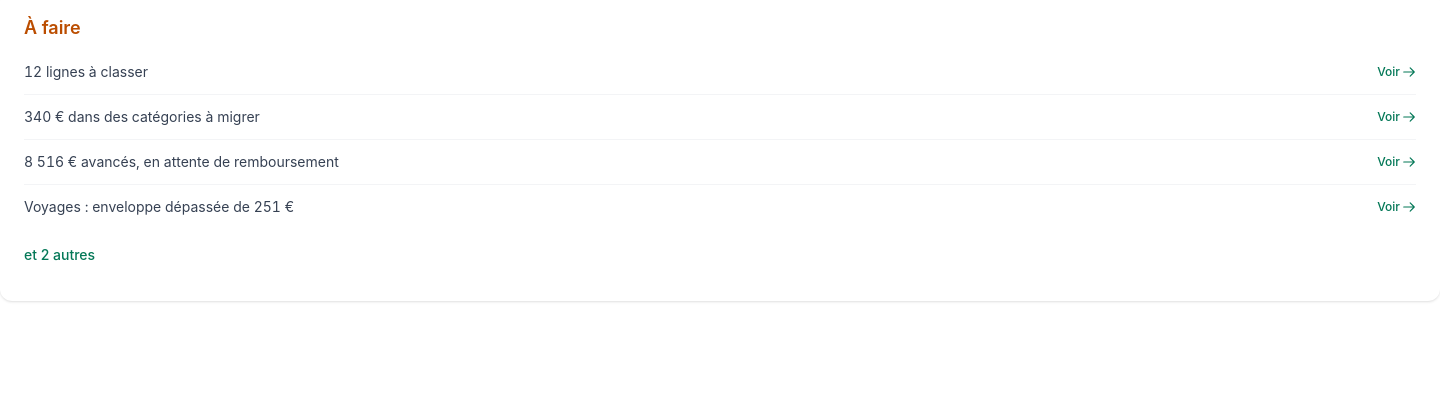
it: TodoCard › shows four lines, then unfolds the rest in place
The width and height of the screenshot is (1440, 409).
Expected: the number of list items is 4, [24,50,1416,95]; [24,95,1416,140]; [24,140,1416,185]; [24,198,1416,215]
Click the button with test id "todo-more" at (60, 255), box [24,233,95,277]
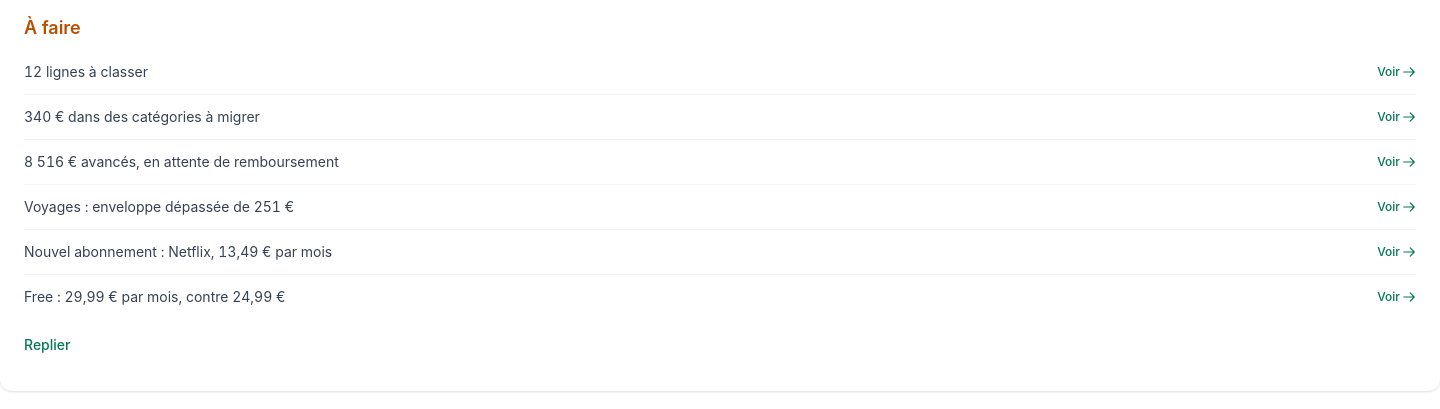
Result: the number of list items is 6 at [24,50,1416,95]; [24,95,1416,140]; [24,140,1416,185]; [24,185,1416,230]; [24,230,1416,275]; [24,288,1416,305]
Result: the button with test id "todo-more" is expanded
Result: the button with test id "todo-more" reads "Replier"
Click the button with test id "todo-more" at (47, 345), box [24,323,70,367]
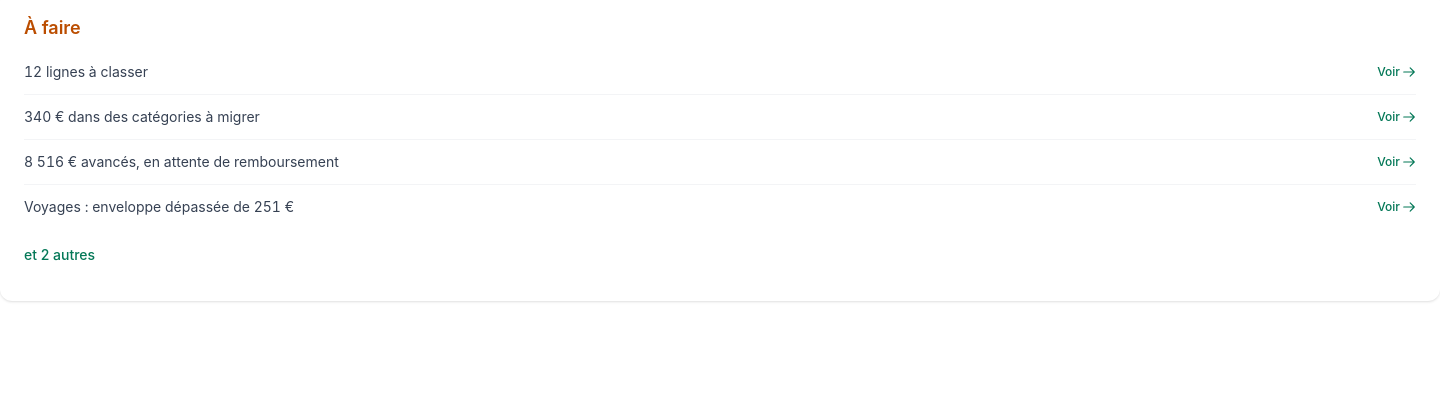
Result: the number of list items is 4 at [24,50,1416,95]; [24,95,1416,140]; [24,140,1416,185]; [24,198,1416,215]
